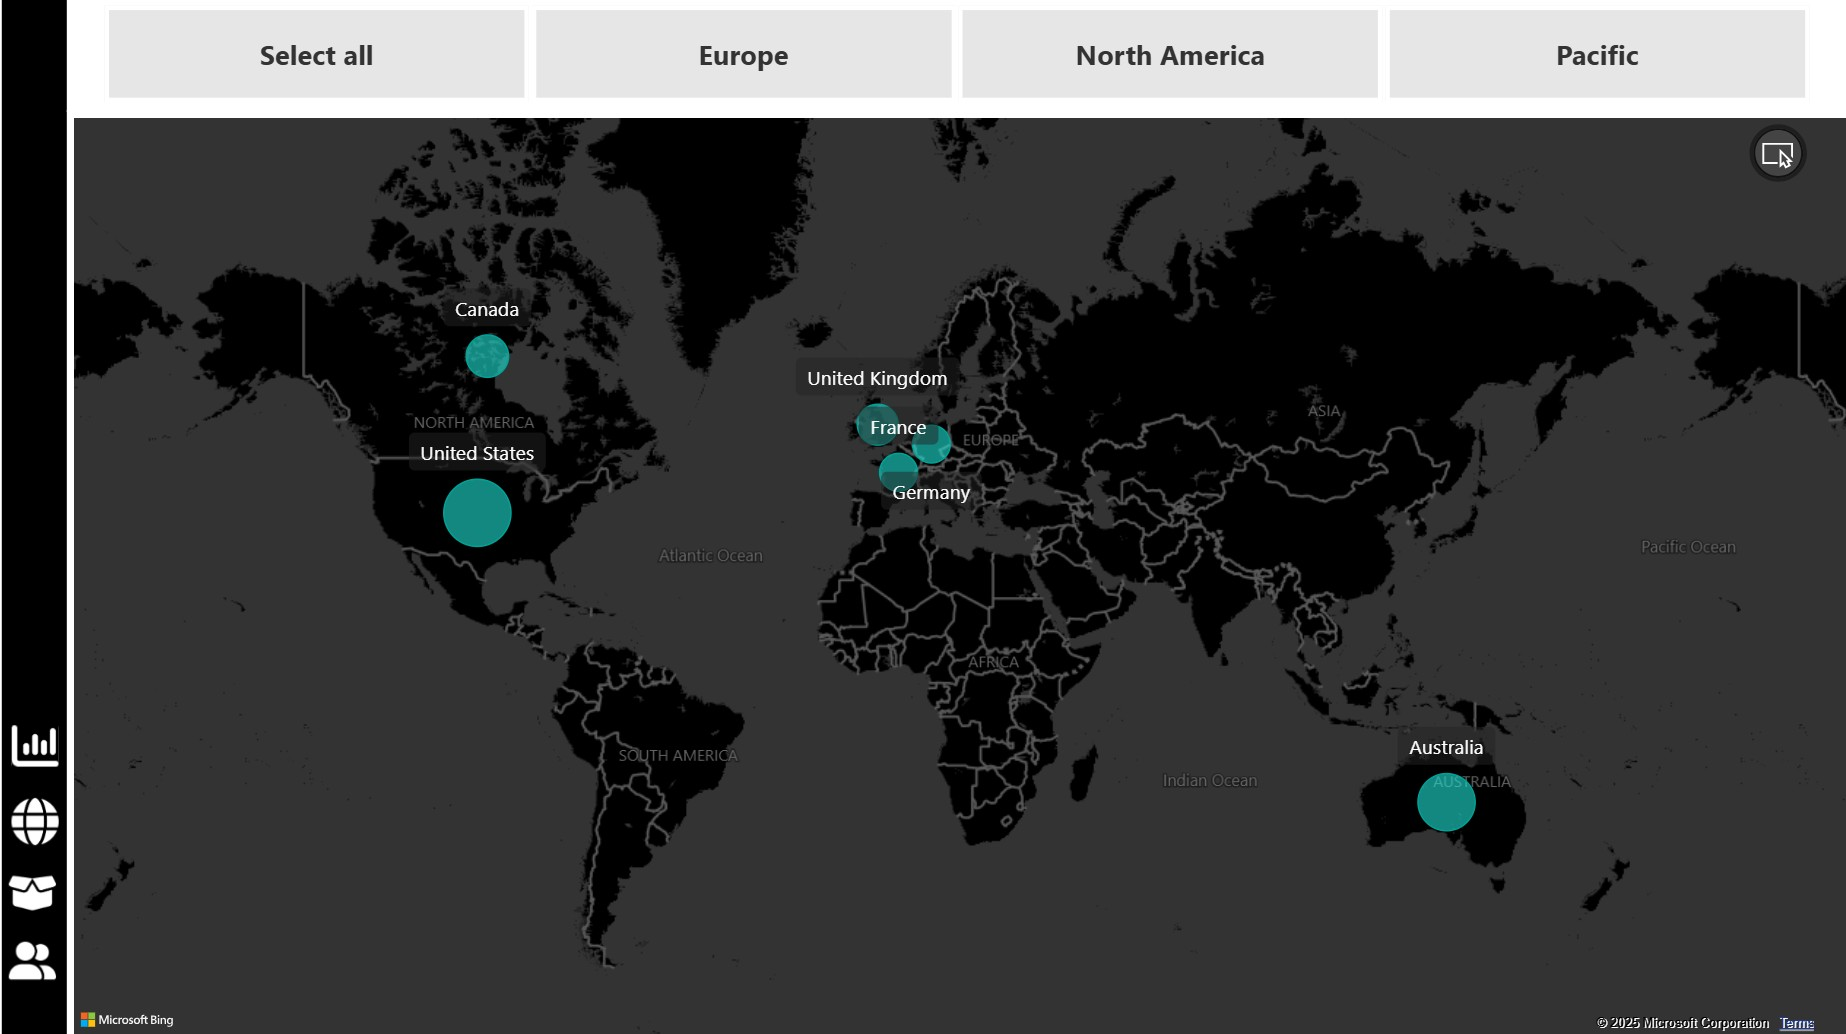

What the dashboard file says about the page in this screenshot:
{"tool":"powerbi","page":{"name":"Map","canvas":[1280,720],"ordinal":1},"visuals":[{"type":"shape","box":[0,0,44.9,720.5],"z":0},{"type":"actionButton","box":[2.6,493.5,82.2,40.4],"z":1000,"group":"g1"},{"type":"map","fields":{"Category":["Territory Lookup.Country"],"Size":["Measure Table.Total Orders"]},"box":[44.2,78.8,1226.5,641.6],"z":1000},{"type":"slicer","fields":{"Values":["Territory Lookup.Continent"]},"box":[44.2,0,1217.1,79.6],"z":2000},{"type":"actionButton","box":[2.5,545.2,82.2,40.4],"z":2000,"group":"g1"},{"type":"actionButton","box":[1,594.5,100.2,40.4],"z":3000,"group":"g1"},{"type":"group","id":"g1","title":"Navigation Buttons","box":[1,493.5,100.2,187.7],"z":3000},{"type":"actionButton","box":[1,640.9,100.2,40.4],"z":4000,"group":"g1"}]}

Visuals, with their boxes on the page's 1280x720 design canvas (x1, y1, x2, y2). These are canvas units, not pixel positions in the 1846x1034 screenshot, which may show the page scaled, cropped or inside an application window:
shape: (x1=0, y1=0, x2=45, y2=720)
actionButton: (x1=3, y1=494, x2=85, y2=534)
map - Territory Lookup.Country x Measure Table.Total Orders: (x1=44, y1=79, x2=1271, y2=720)
slicer - Territory Lookup.Continent: (x1=44, y1=0, x2=1261, y2=80)
actionButton: (x1=2, y1=545, x2=85, y2=586)
actionButton: (x1=1, y1=594, x2=101, y2=635)
"Navigation Buttons" group: (x1=1, y1=494, x2=101, y2=681)
actionButton: (x1=1, y1=641, x2=101, y2=681)
